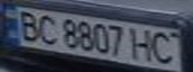0: (90, 20, 112, 55)
7: (109, 23, 130, 57)
8: (57, 16, 81, 50), (75, 19, 93, 52)
B: (12, 8, 42, 42)
C: (148, 29, 181, 65), (33, 12, 60, 46)
H: (127, 26, 160, 63)
